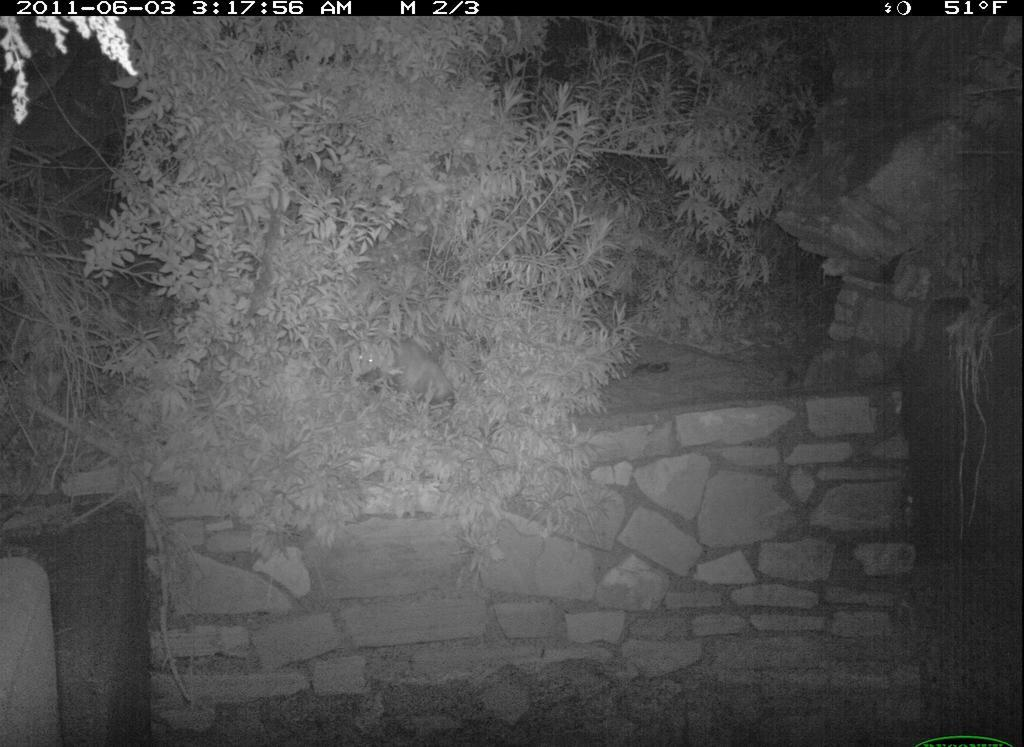opossum: (345, 327, 464, 431)
